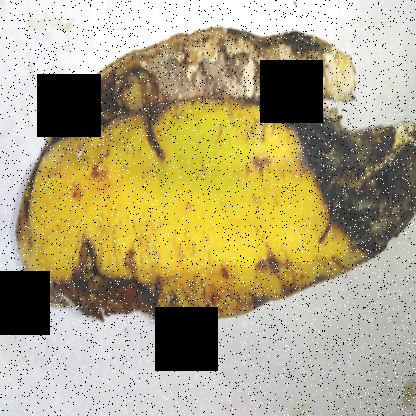rotten: (17, 8, 374, 148), (258, 54, 416, 293), (54, 229, 265, 369)
